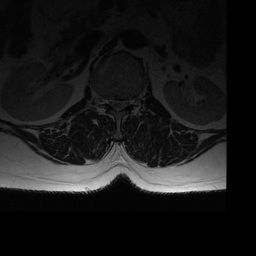CCS_severe_stenosis: (114, 92, 120, 116)
LFS_normal: (128, 92, 134, 111)
LLS_stenosis: (121, 94, 127, 113)
RFS_normal: (102, 90, 108, 111)
RLS_stenosis: (108, 92, 114, 113)
